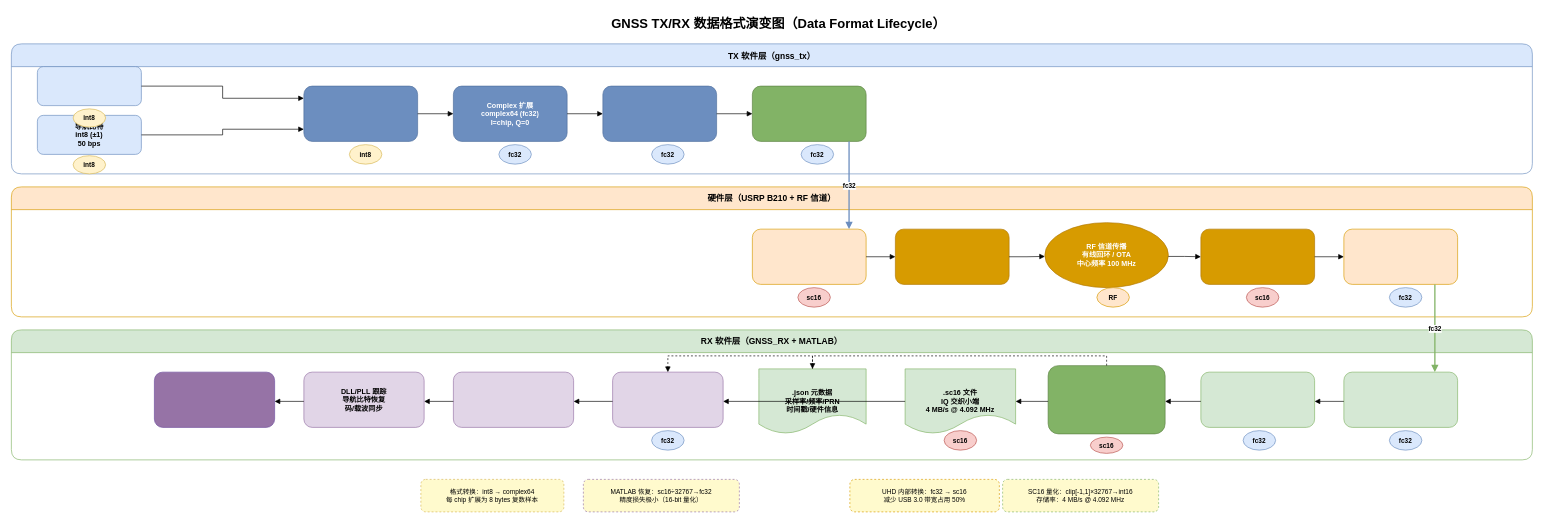
The diagram is 1544 pixels wide and 523 high, and some of its shapes have lost their labels. The centre of each missing label's shape, as x and y in pixels:
B210 ADC RF → 下变频 模拟 IQ → sc16: (1257,256)
B210 DAC sc16 → 模拟 IQ 上变频 → RF: (952,256)
BER 评估 对比 TX truth 输出误码率: (214,399)
BPSK 扩频 nav_bit × C/A int8 (±1) chips: (360,113)
C/A 码 (PRN) int8 (±1) 1023 chips/ms: (89,86)
fc32 流输入 complex64 4.092 MHz: (1400,399)
head block 样本门控 duration × fs: (1257,399)
MATLAB 加载 load_gnss_rx_capture() SC16÷32767→fc32 恢复: (667,399)
PRN 捕获 码相位 + 多普勒 相关峰检测: (513,399)
SC16 量化 clip[-1,1]×32767 → int16 交织 4 bytes/sample: (1106,399)
UHD RX 驱动 otw_format=sc16 cpu_format=fc32: (1400,256)
UHD TX 驱动 cpu_format=fc32 otw_format=sc16: (809,256)
多星叠加（可选） complex64 × N / √N 归一化: (659,113)
幅度缩放 × amplitude (0.25) complex64 → UHD: (809,113)
